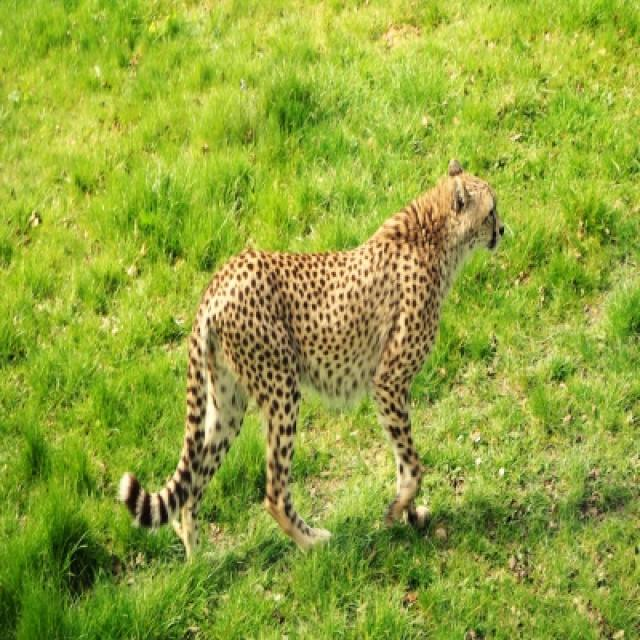Cheetah: (123, 165, 507, 568)
